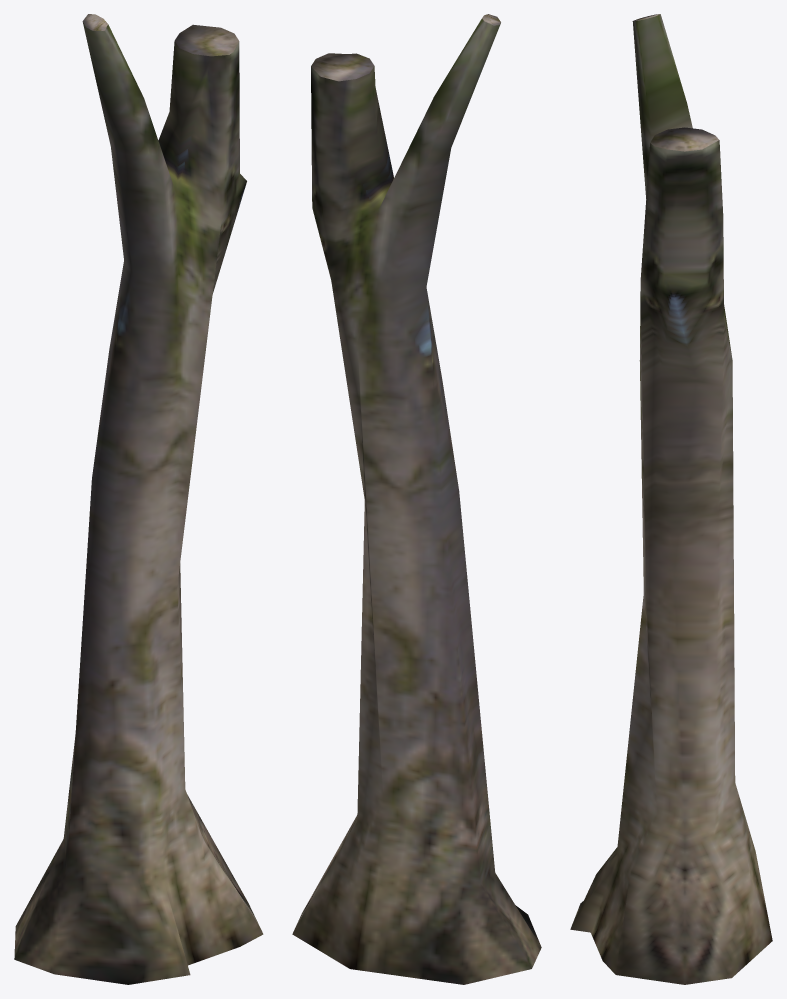
3 views of the same model, side by side, from view 1: azimuth 30°, elevation 25°; view 2: azimuth 150°, elevation 25°; view 3: azimuth 270°, elevation 25° (orthographic). The views are drawn at different scales.
Visible parts, largest first — view 1: U3DMesh; view 2: U3DMesh; view 3: U3DMesh.
Part boxes in pixels (<box>): U3DMesh: <box>14,14,263,984</box>; U3DMesh: <box>292,14,541,984</box>; U3DMesh: <box>570,14,772,984</box>.
Bounding box in the file's own units: 95.99 × 369 × 75.92.
1 material, 1 textured.
